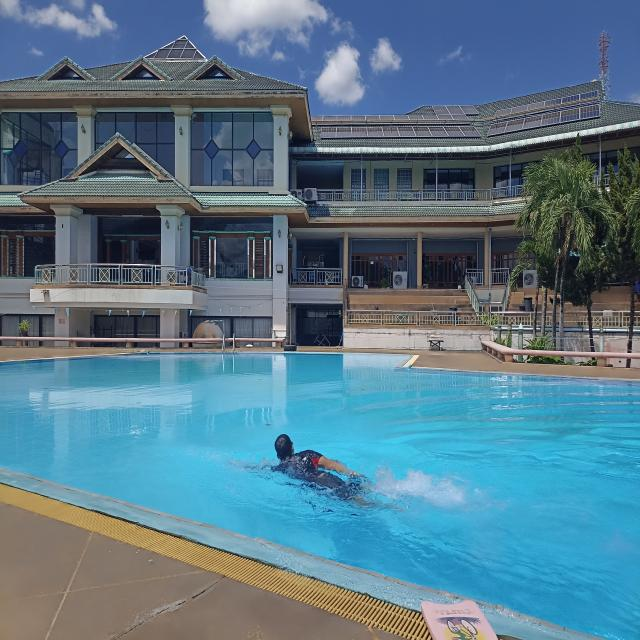Swimming: (243, 430, 403, 518)
